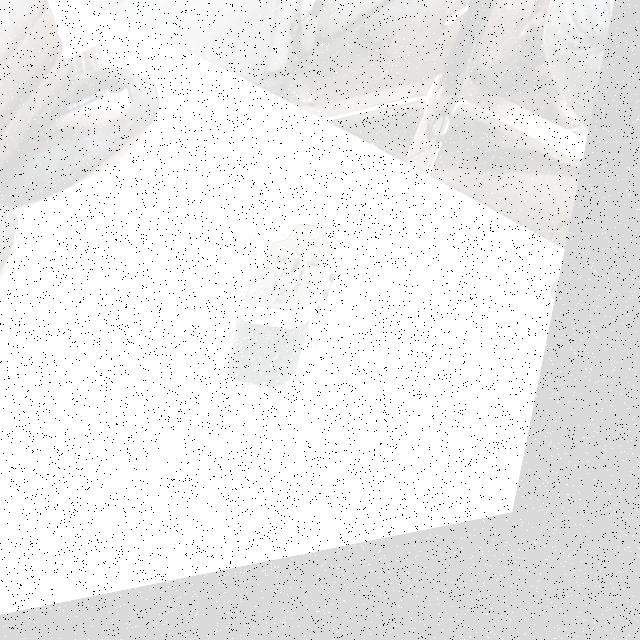adapter: (237, 223, 363, 411)
